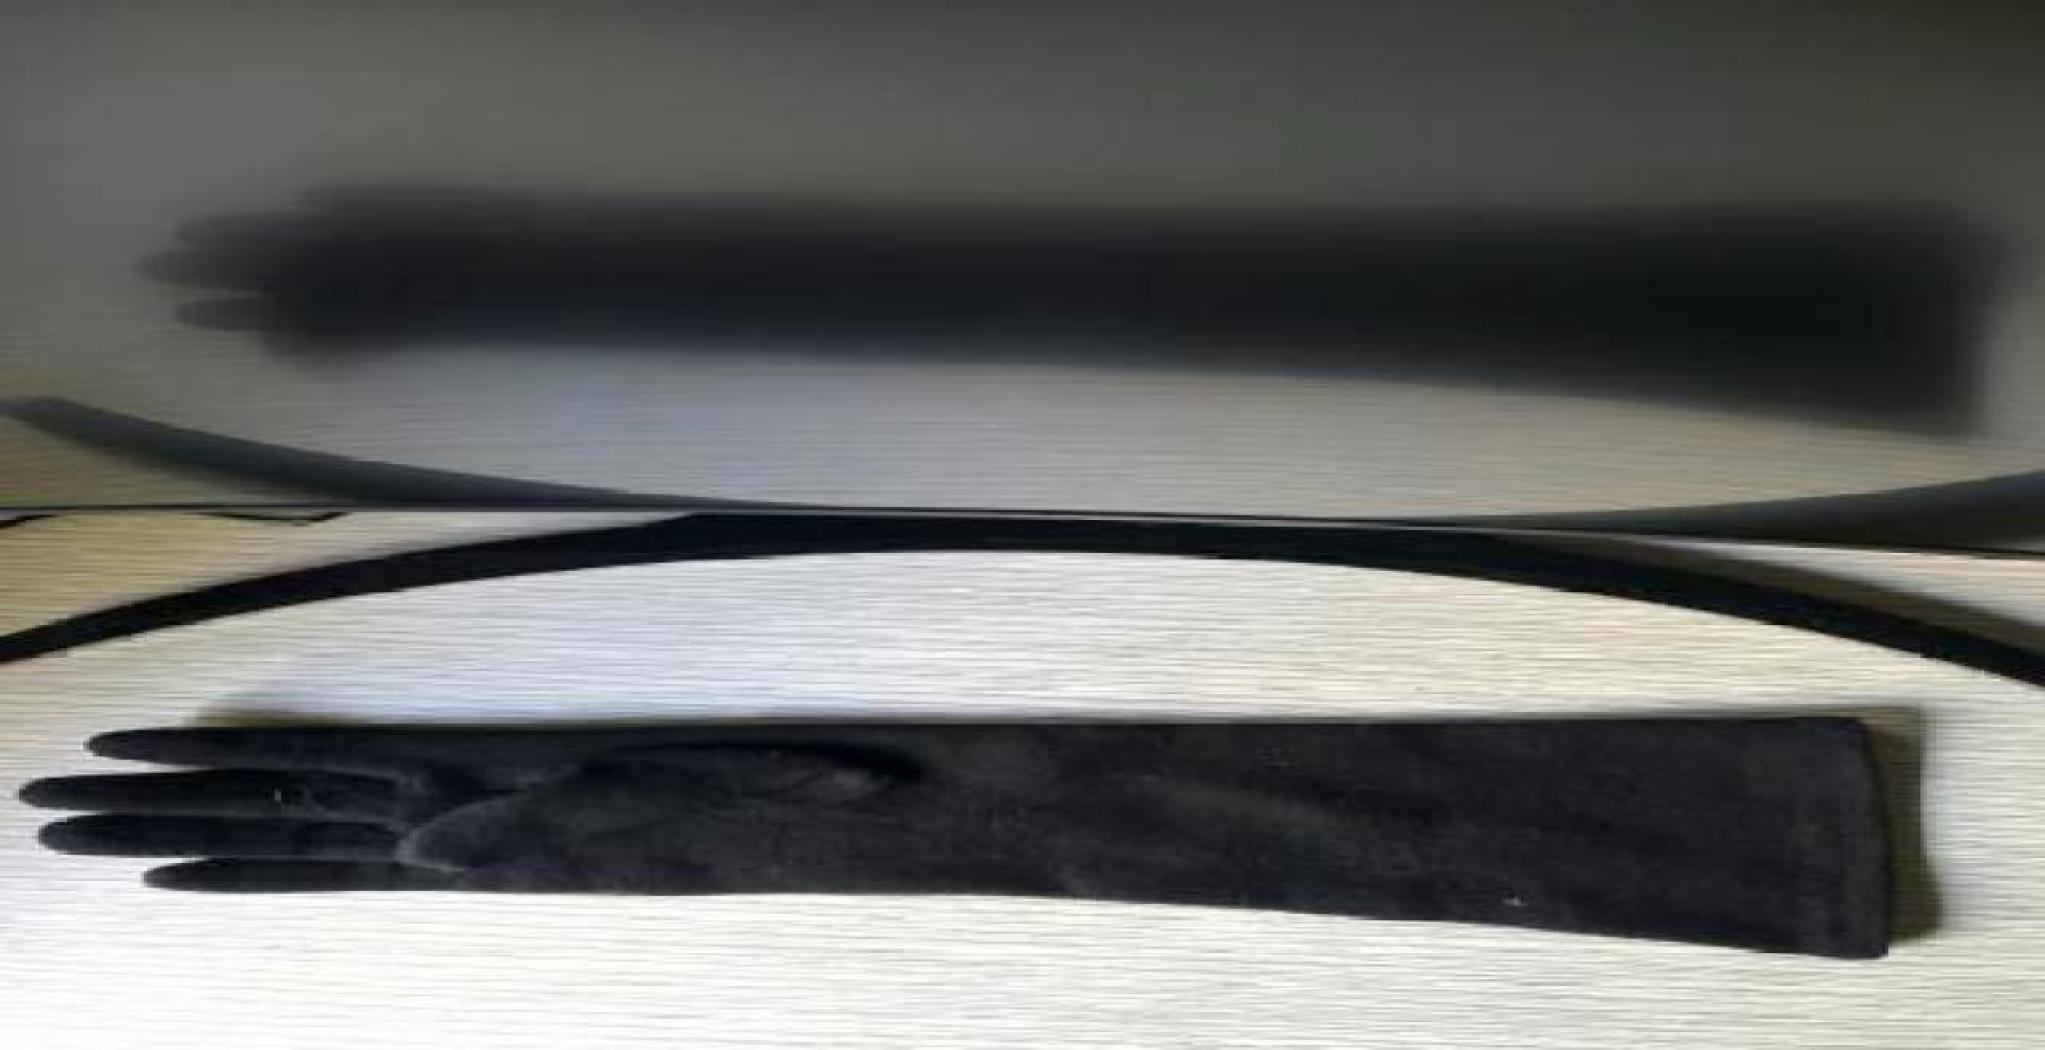gloved: (28, 691, 1934, 996)
